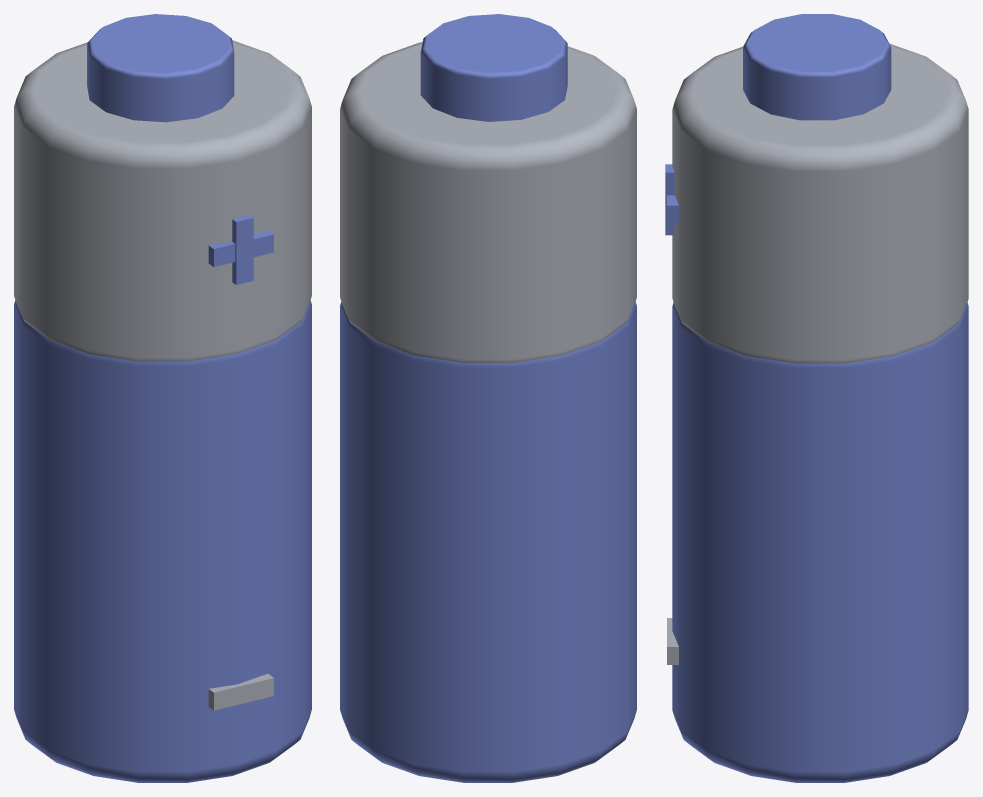
Rendered from battery.gltf.
The picture shows the model from 3 angles, left to right: view 1: azimuth 30°, elevation 25°; view 2: azimuth 150°, elevation 25°; view 3: azimuth 270°, elevation 25°; orthographic projection.
Visible parts, largest first — view 1: Cylinder, Cylinder 2, Cylinder 3, Rectangle 4, Rectangle 2, Rectangle 3; view 2: Cylinder, Cylinder 2, Cylinder 3; view 3: Cylinder, Cylinder 2, Cylinder 3.
Part boxes in pixels (x1,y1,x2,y2): Cylinder: (14,300,311,782); Cylinder 2: (14,40,311,361); Cylinder 3: (87,14,234,122); Rectangle 4: (208,673,273,710); Rectangle 2: (232,214,253,284); Rectangle 3: (208,230,273,266); Cylinder: (340,302,636,782); Cylinder 2: (340,42,636,362); Cylinder 3: (420,14,567,121); Cylinder: (672,302,968,782); Cylinder 2: (672,44,968,363); Cylinder 3: (743,14,891,120).
Size of the model in its own units: 0.5909 by 1.53 by 0.6143.
